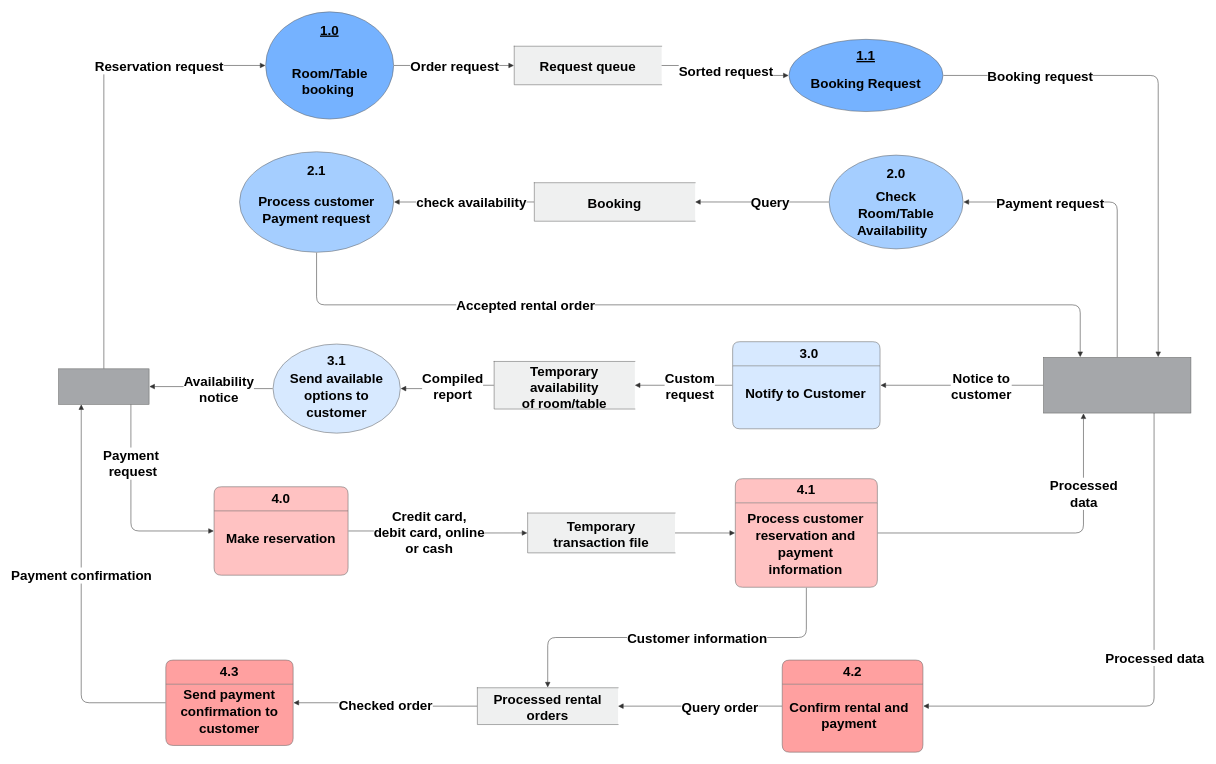
This 1216x764 diagram has some shape labels left out. Each missing label, with the box of its shape:
Booking Confirmation: (1043, 357, 1191, 413)
Customer: (58, 368, 149, 404)
